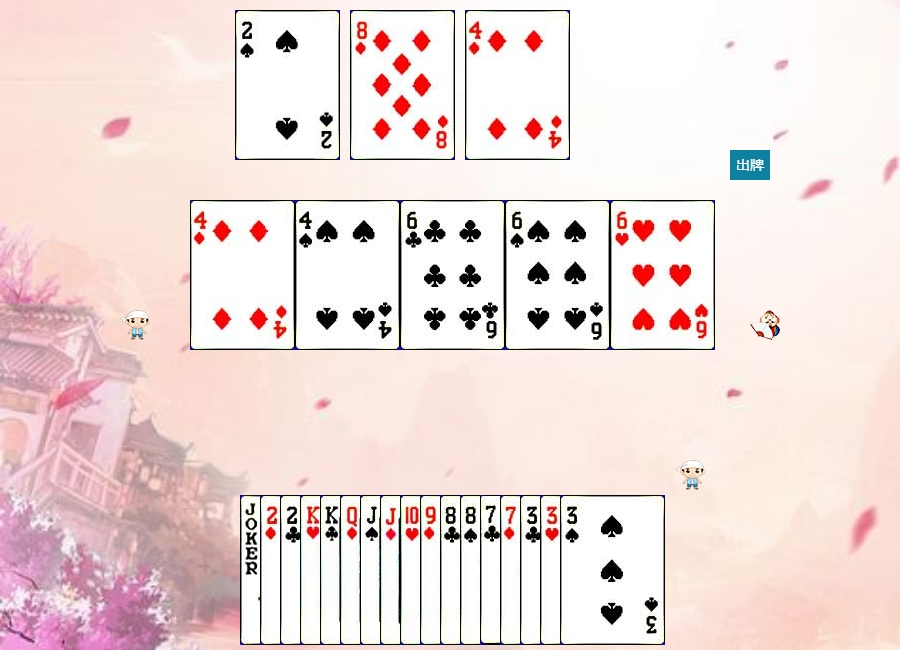10~3: (400, 495, 505, 645)
11~1: (380, 495, 485, 645)
11~4: (360, 495, 465, 645)
12~1: (340, 495, 445, 645)
13~2: (320, 495, 425, 645)
13~3: (300, 495, 405, 645)
15~1: (260, 495, 365, 645)
15~2: (280, 495, 385, 645)
15~4: (235, 10, 340, 160)
17~3: (240, 495, 345, 645)
3~2: (520, 495, 625, 645)
3~3: (540, 495, 645, 645)
3~4: (560, 495, 665, 645)
4~1: (465, 10, 570, 160), (190, 200, 295, 350)
4~4: (295, 200, 400, 350)
6~2: (400, 200, 505, 350)
6~3: (610, 200, 715, 350)
6~4: (505, 200, 610, 350)
7~1: (500, 495, 605, 645)
7~2: (480, 495, 585, 645)
8~1: (350, 10, 455, 160)
8~2: (440, 495, 545, 645)
8~4: (460, 495, 565, 645)
9~1: (420, 495, 525, 645)
